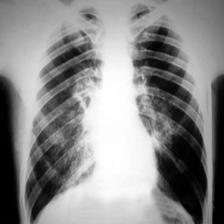tuberculosis: (18, 0, 213, 224)
